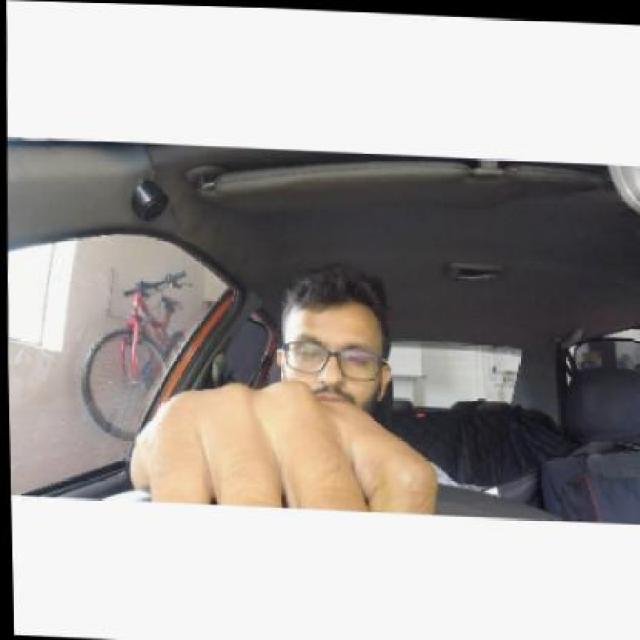drowsy: (262, 272, 396, 400)
